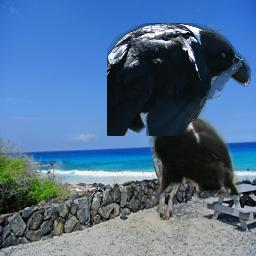Crow: (107, 23, 252, 136)
Swallow: (88, 189, 104, 225)
Woodpecker: (128, 70, 242, 206)
